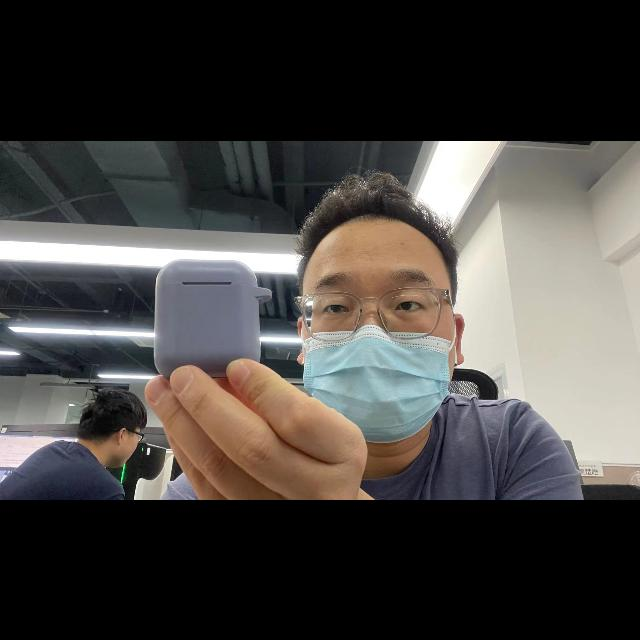airpods: (154, 260, 274, 378)
